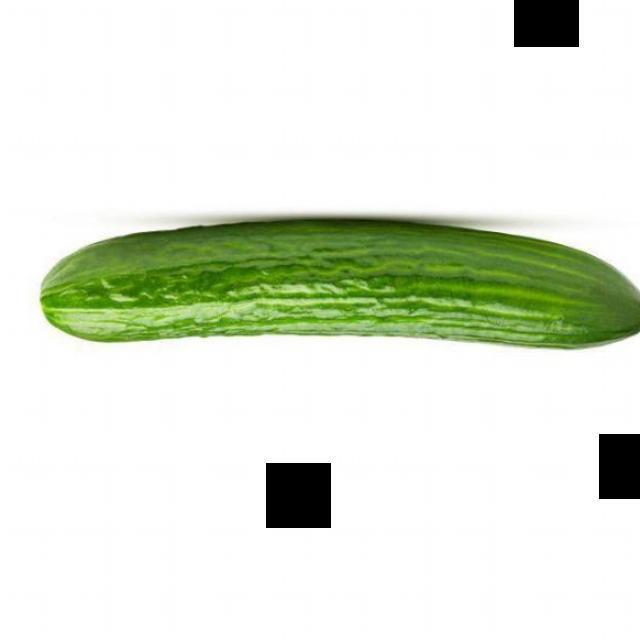cucumber: (35, 216, 640, 352)
